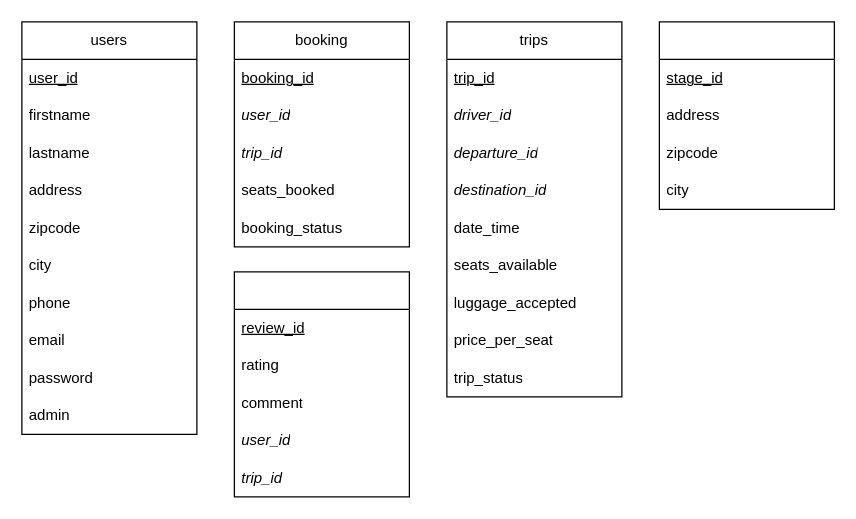
Image size: 856x519. Some labels were removed from this diagram. The shapes that lost their labels are listed below. From the top down, each one's box as (x1, y1, x2, y2) in pixels, then its label:
(658, 21, 834, 209): stages
(233, 271, 409, 497): reviews
